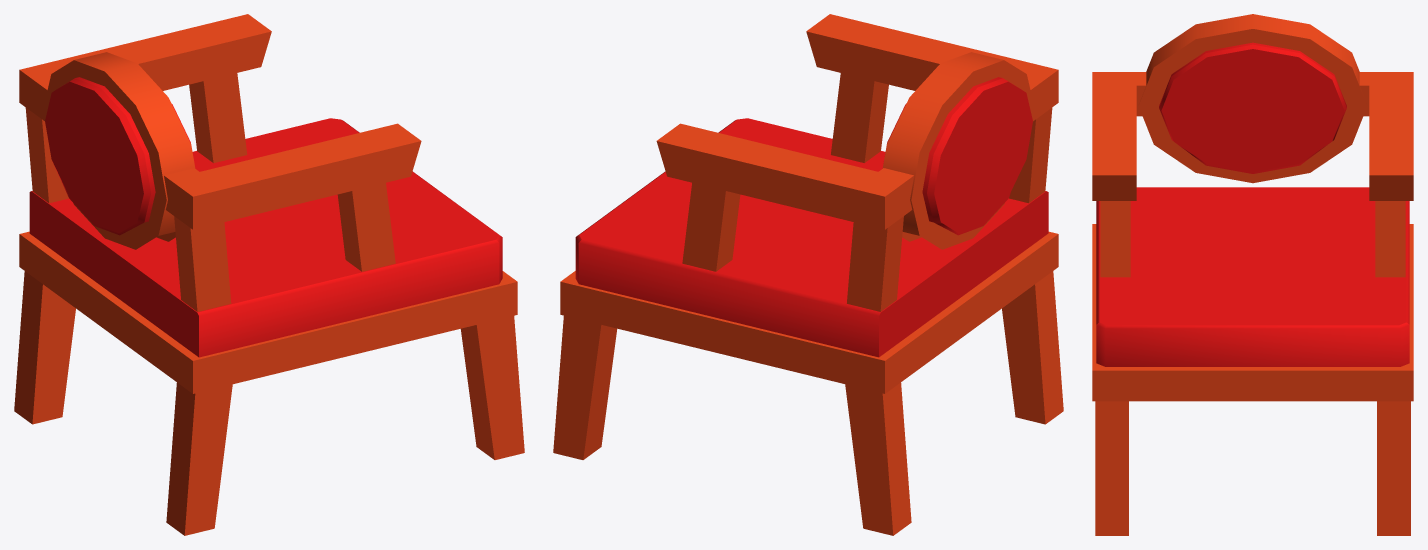
Rendered from ghe vip Japanese.FBX.
3 renders of one model, left to right at view 1: azimuth 30°, elevation 25°; view 2: azimuth 150°, elevation 25°; view 3: azimuth 270°, elevation 25°, orthographic. The views are drawn at different scales.
Visible parts, largest first — view 1: Object1170; view 2: Object1170; view 3: Object1170.
Boxes of the visible parts, bbox=[...] form: Object1170: bbox=[14, 14, 524, 535]; Object1170: bbox=[553, 14, 1063, 535]; Object1170: bbox=[1092, 14, 1413, 535].
Bounding box in the file's own units: 1.4 × 1.55 × 1.22.
